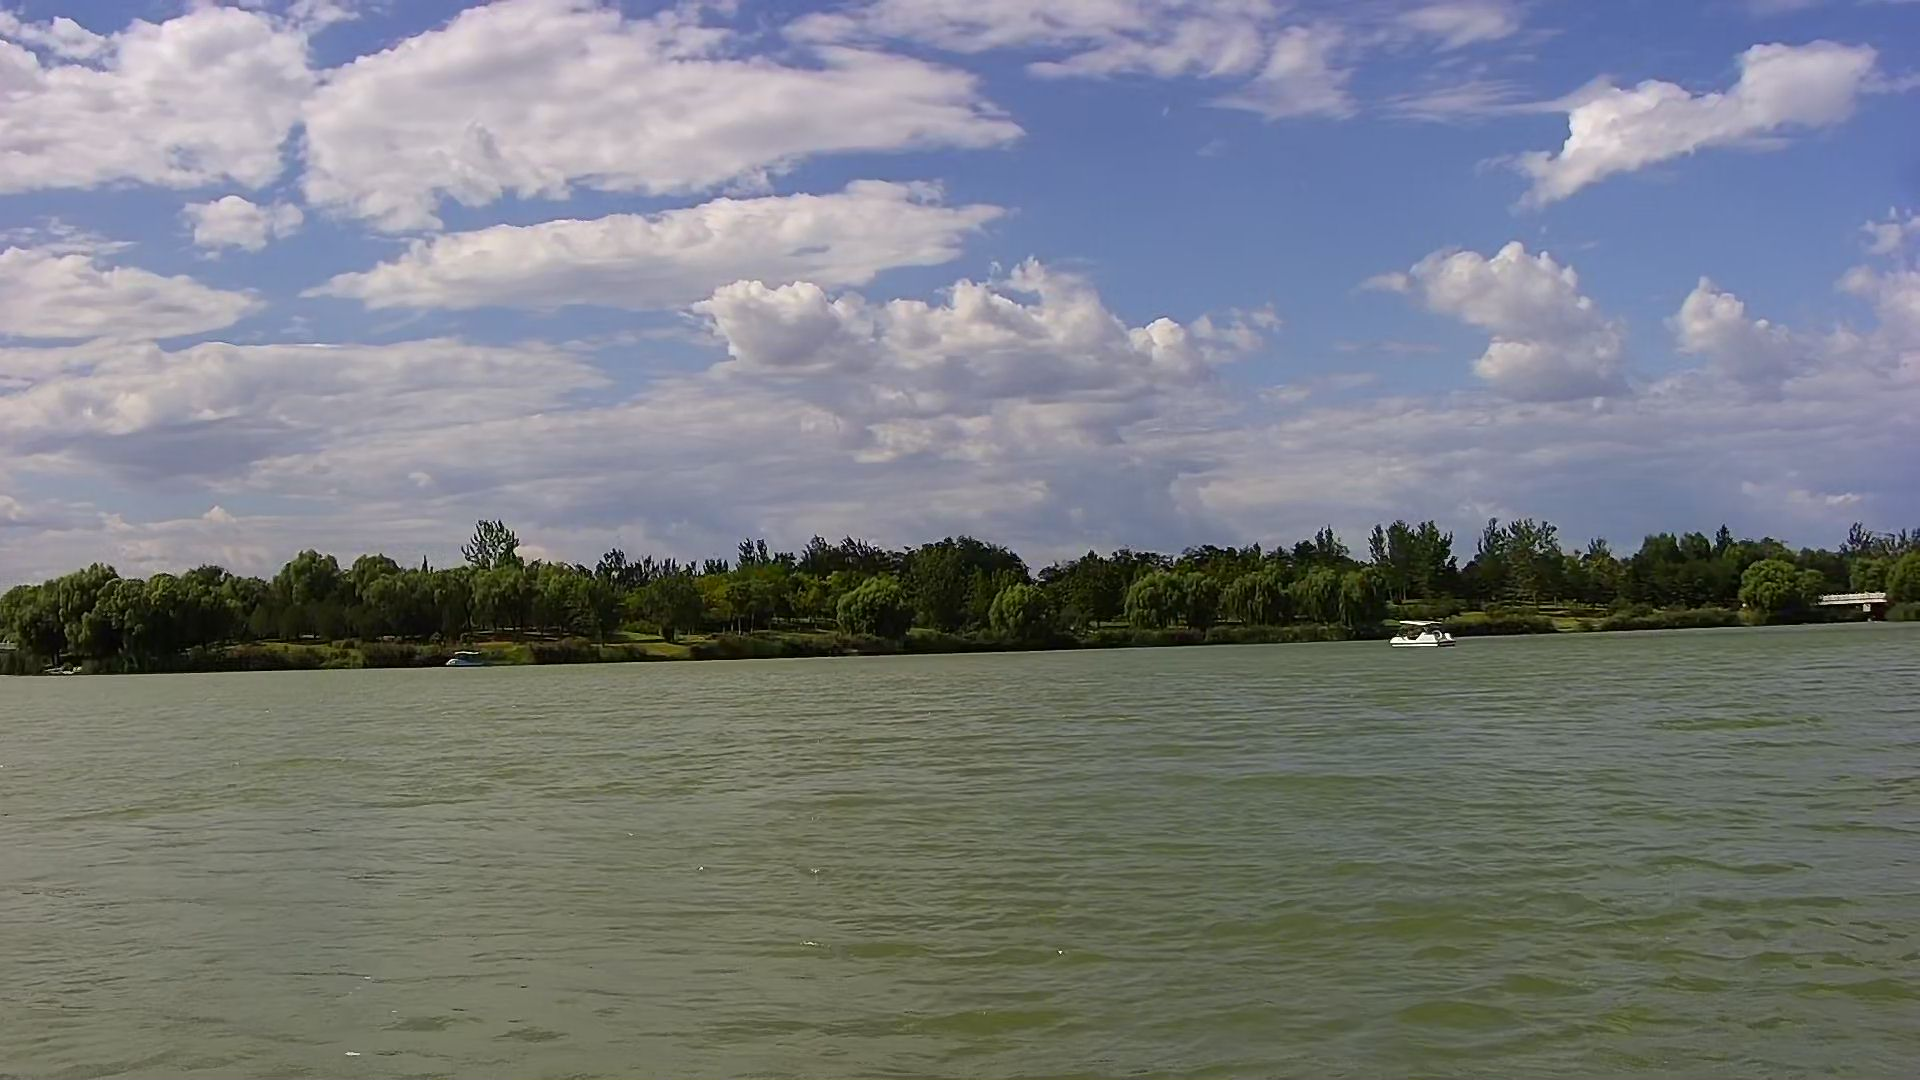boat: (1382, 615, 1460, 651), (436, 644, 498, 669)
